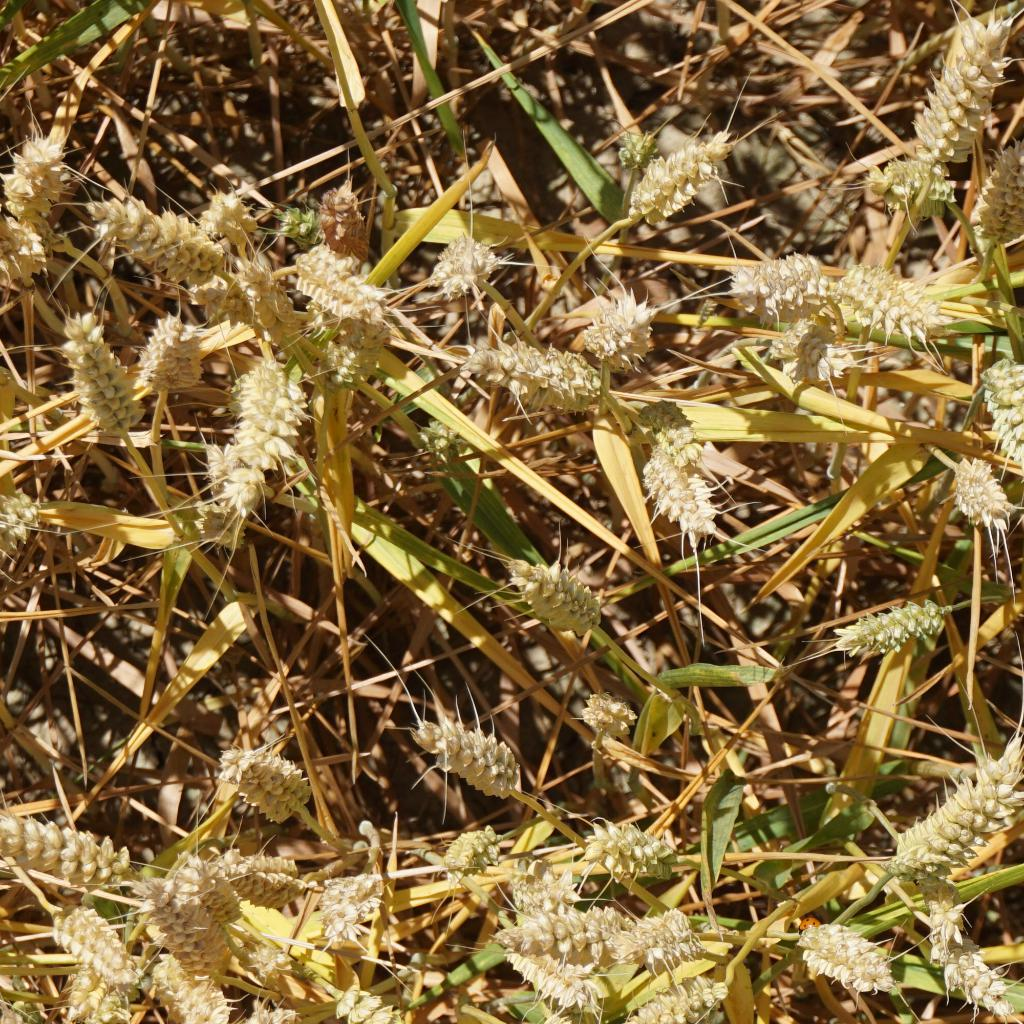0-0: (888, 749, 1014, 870), (230, 351, 311, 513), (459, 321, 604, 408), (911, 21, 1009, 142), (86, 190, 213, 275), (143, 873, 248, 975), (62, 311, 147, 433), (403, 710, 519, 799), (195, 435, 275, 560), (219, 740, 321, 837), (0, 796, 124, 871), (830, 584, 948, 662), (620, 136, 722, 226), (287, 237, 382, 323), (839, 263, 940, 341), (499, 897, 617, 960), (221, 843, 316, 921), (793, 920, 891, 991), (567, 812, 681, 873), (587, 292, 669, 372), (428, 233, 503, 320), (644, 448, 722, 531), (502, 934, 591, 1005), (211, 926, 303, 993), (515, 544, 592, 624), (59, 900, 142, 972), (320, 861, 387, 950), (984, 345, 1024, 493), (968, 136, 1024, 241), (863, 143, 956, 206), (334, 979, 464, 1024), (638, 382, 709, 463), (240, 254, 307, 338), (590, 903, 688, 960), (147, 955, 227, 1024), (947, 444, 1009, 533), (0, 136, 62, 221), (172, 850, 248, 918), (739, 243, 816, 308), (592, 984, 716, 1024), (937, 948, 1008, 1016), (147, 314, 203, 399), (308, 312, 371, 385), (776, 315, 846, 380), (193, 177, 254, 246), (67, 964, 137, 1024), (310, 180, 365, 252), (439, 806, 495, 873), (924, 891, 976, 958), (503, 847, 559, 907), (183, 259, 244, 312), (0, 472, 38, 550), (0, 216, 42, 285), (577, 685, 630, 735), (49, 1000, 135, 1024), (0, 996, 72, 1024), (271, 196, 308, 250), (230, 996, 295, 1024), (0, 329, 12, 389)
